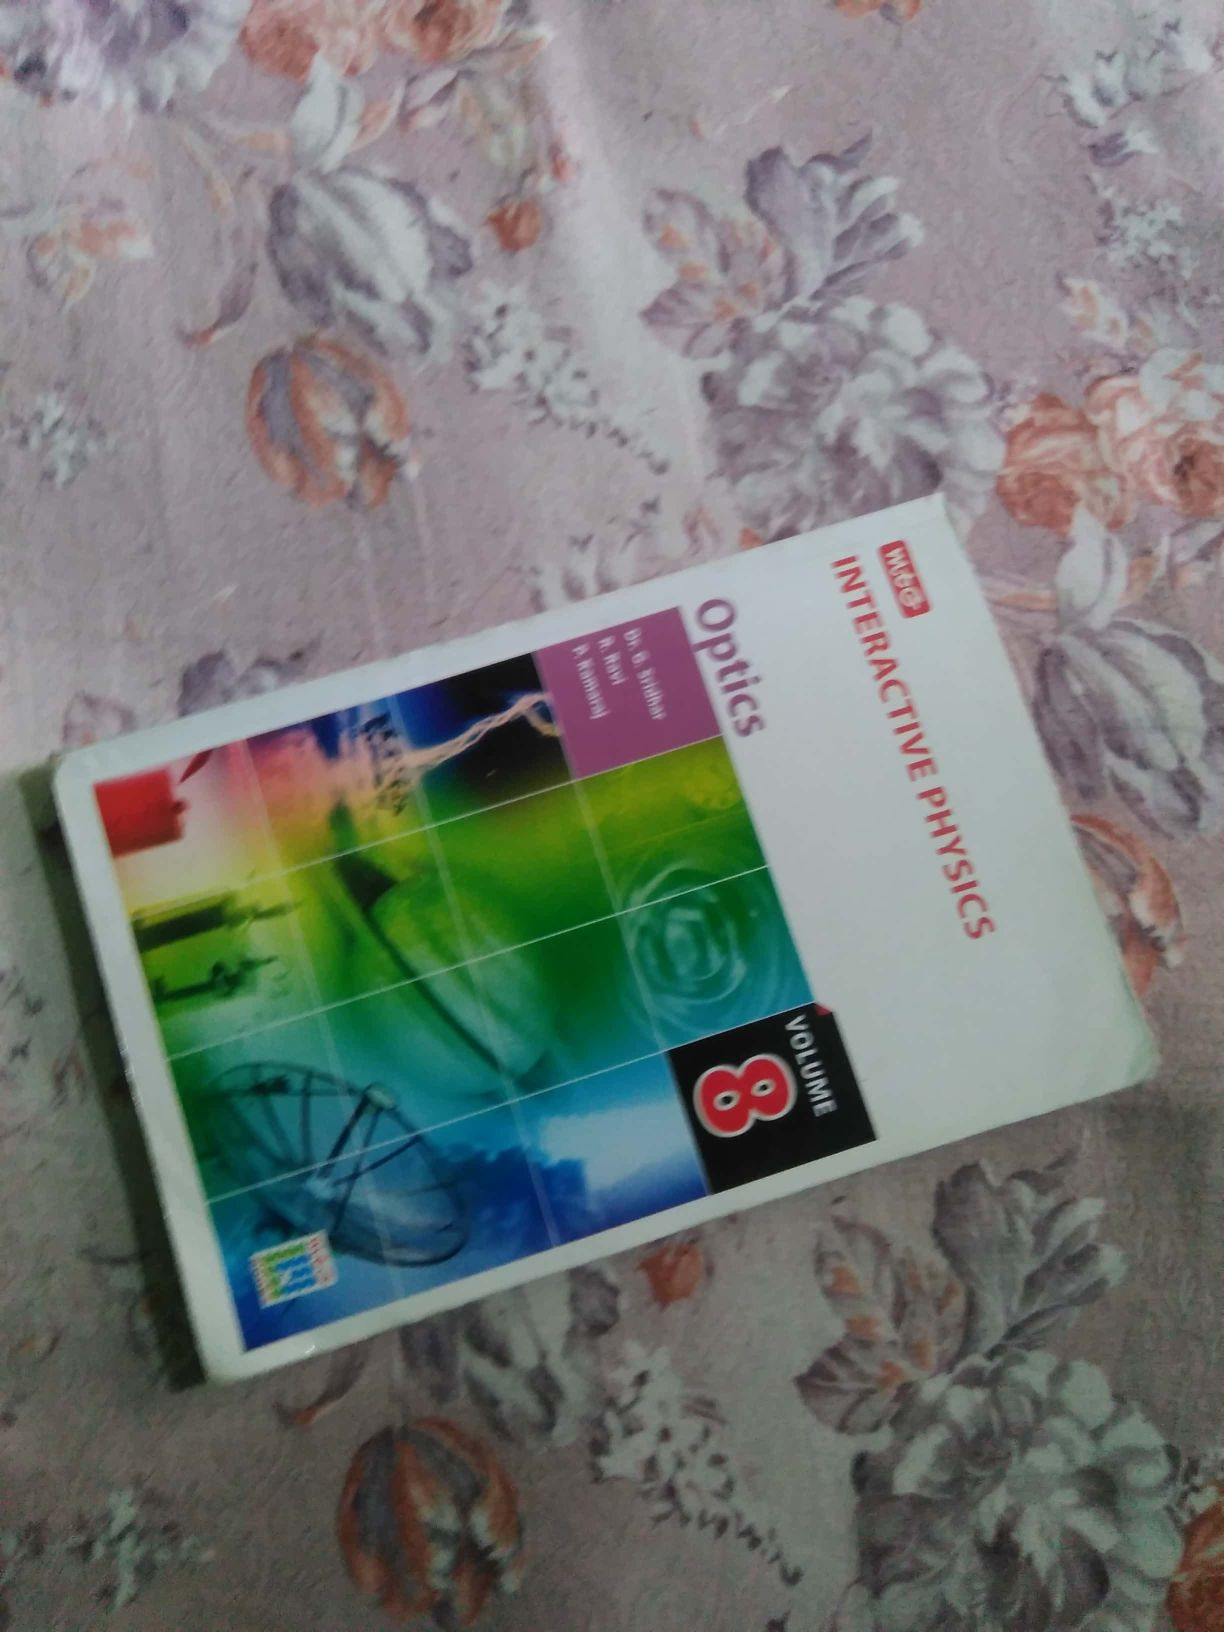optics: (93, 537, 1164, 1361)
